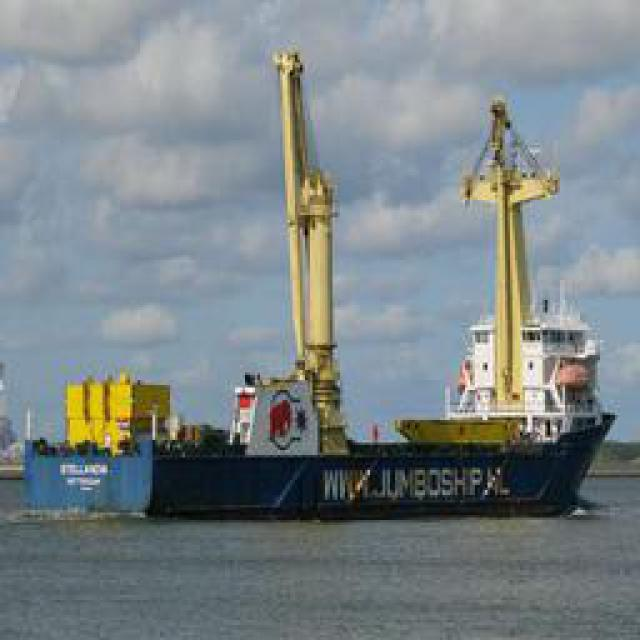Ship: (10, 98, 610, 531)
